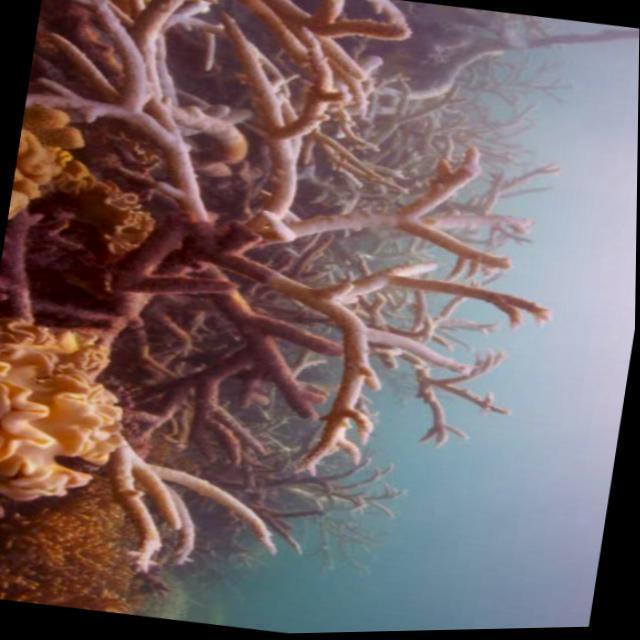Dead Coral: (0, 0, 529, 578)
